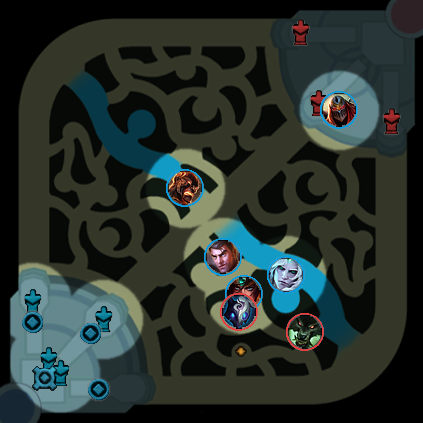Brand: (166, 169, 204, 207)
Jayce: (204, 238, 242, 276)
Kindred: (220, 293, 258, 331)
Sivir: (225, 275, 263, 313)
Viego: (267, 256, 305, 294)
Warwick: (286, 313, 324, 351)
Zed: (320, 91, 358, 129)
